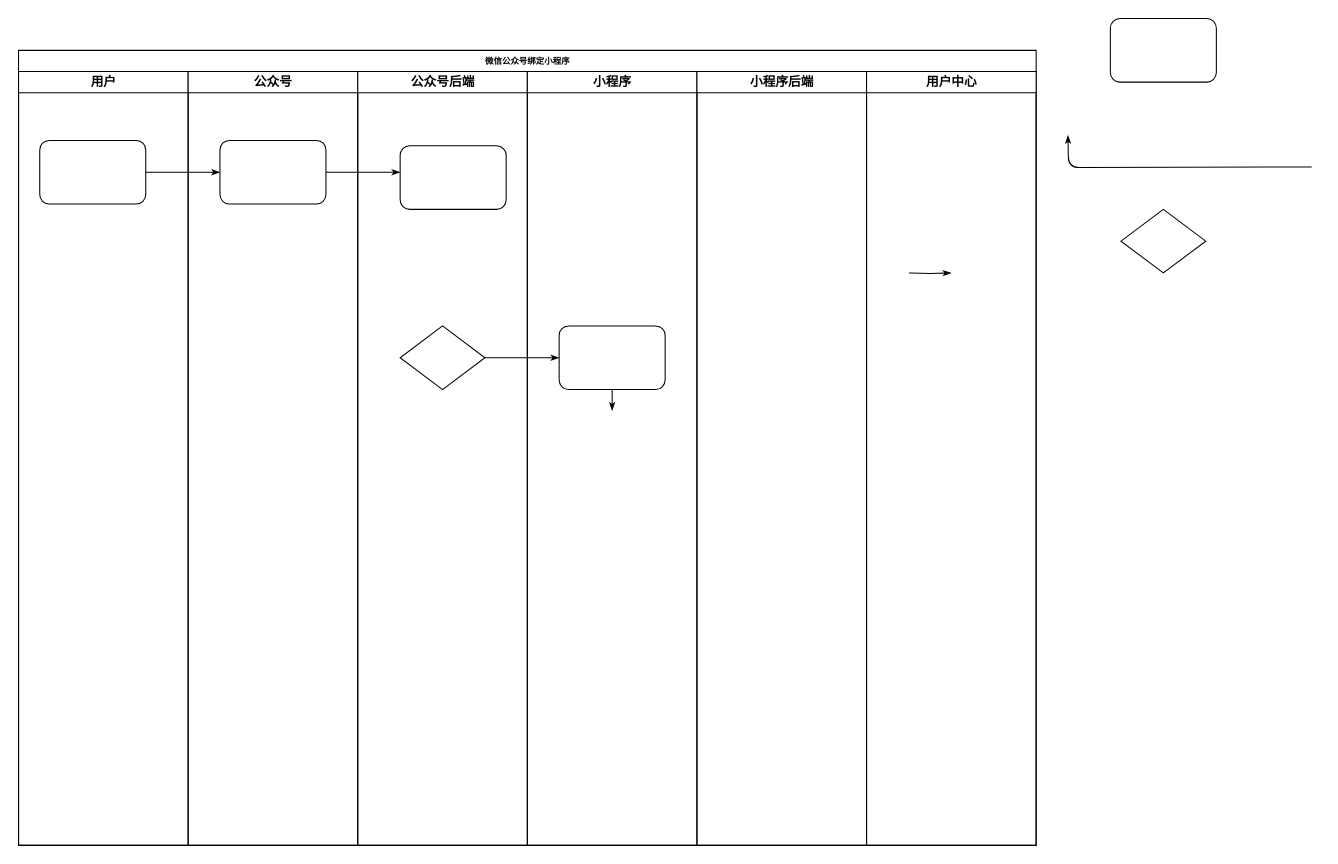
The diagram is 1338 pixels wide and 864 high, and some of its shapes have lost their labels. The centre of each missing label's shape, as x and y in pixels:
关注成功: point 272,171
是否新用户: point 452,177
点击关注公众号: point 92,171
